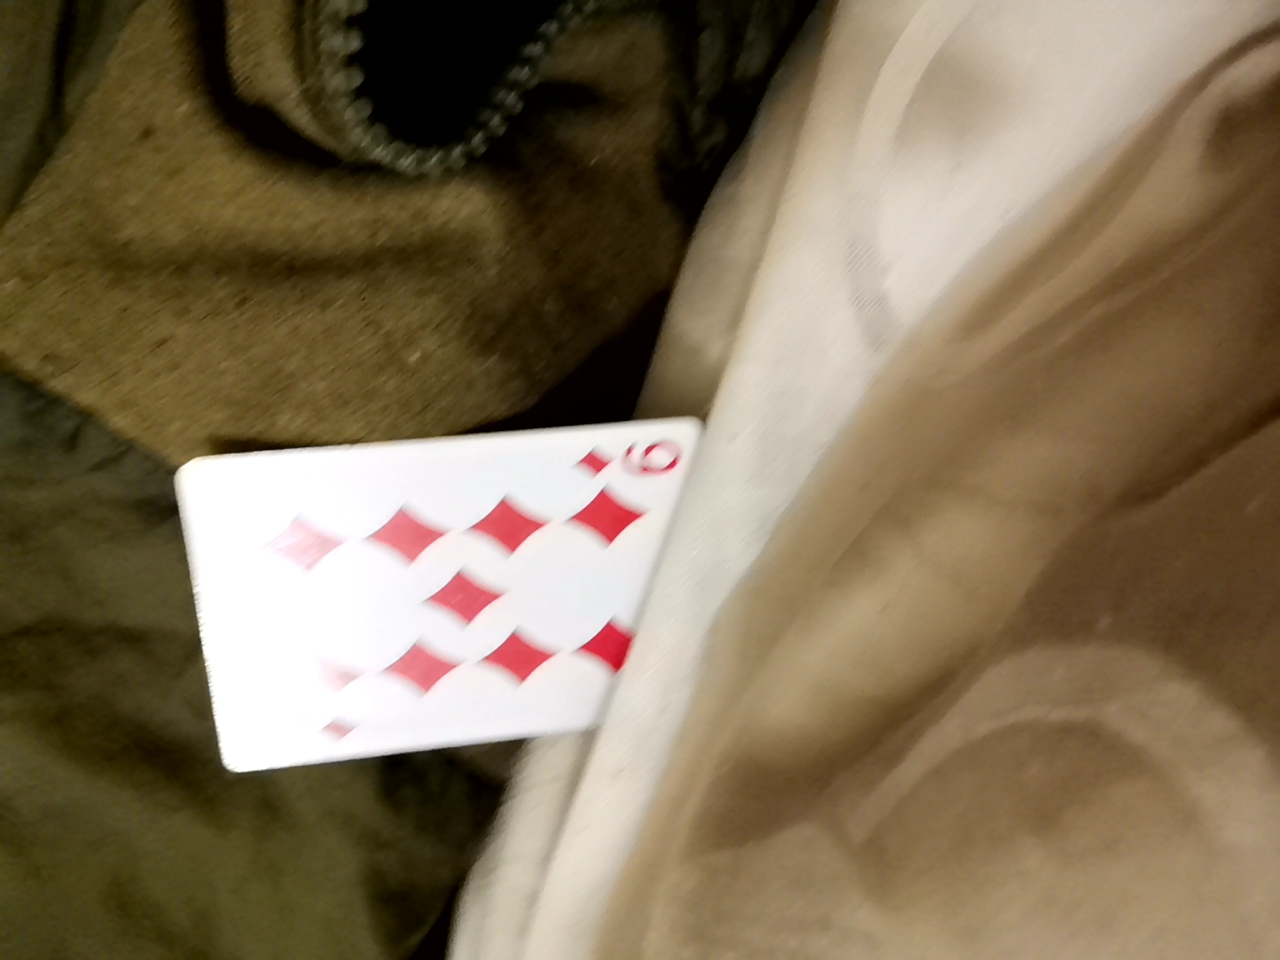fk 9: (211, 375, 731, 756)
